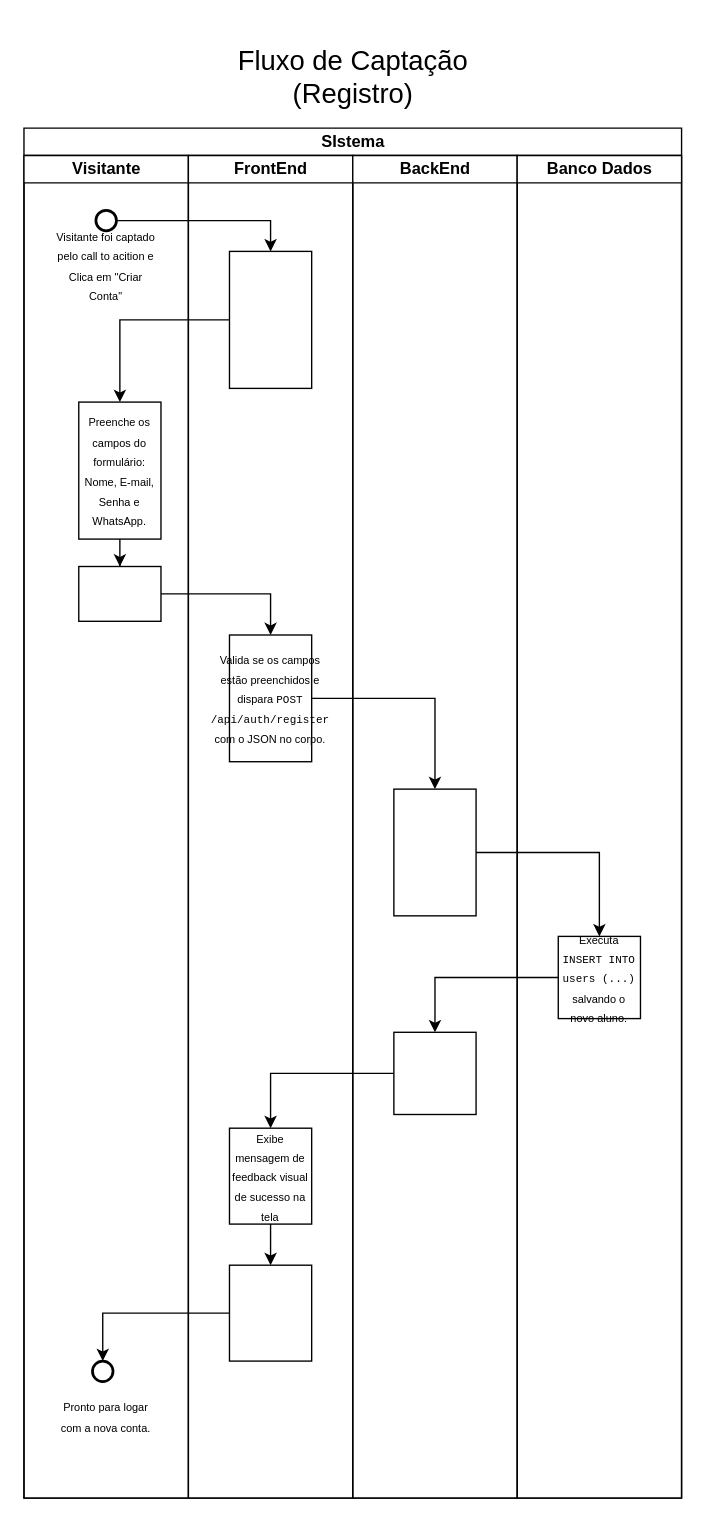
Image size: 706x1522. Some labels were removed from this diagram. Here are the shapes that lost their labels. From the top down, the centre of each, then its label:
At (x=270, y=319): "Intercepta o clique e redireciona o usuário para a página/rota de Registro.".
At (x=119, y=593): "Clica no botão de submeter cadastro".
At (x=434, y=852): "Recebe o JSON e aplica criptografia (Hash) na senha informada.".
At (x=434, y=1072): "Retorna Status 201 Created informando sucesso.".
At (x=270, y=1312): "Redireciona automaticamente o usuário para a página de Login.".
